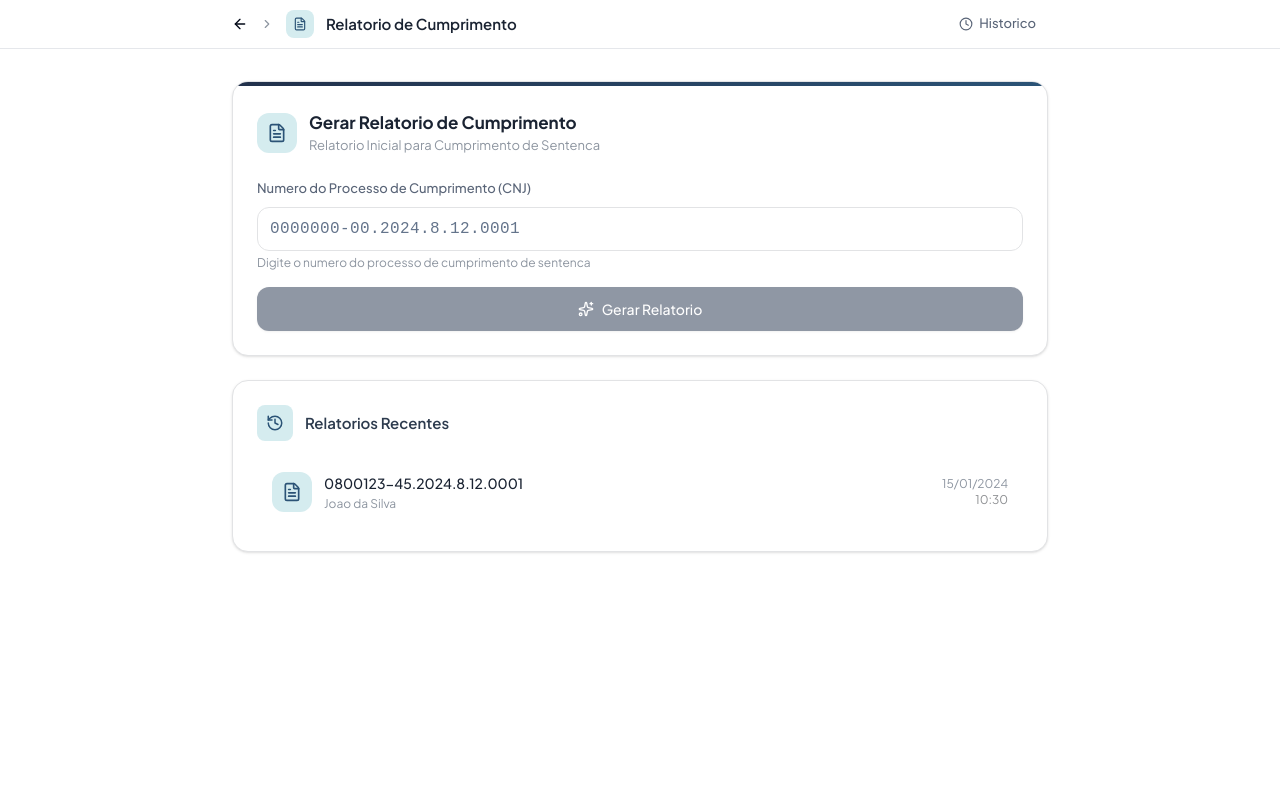
Test case: RelatorioCumprimentoPage › deve mostrar historico quando dados sao carregados
Clica no botao de historico para abrir o drawer - use text "Historico" without accent
Click the button "Historico": point(998, 24) [947,8,1048,40]
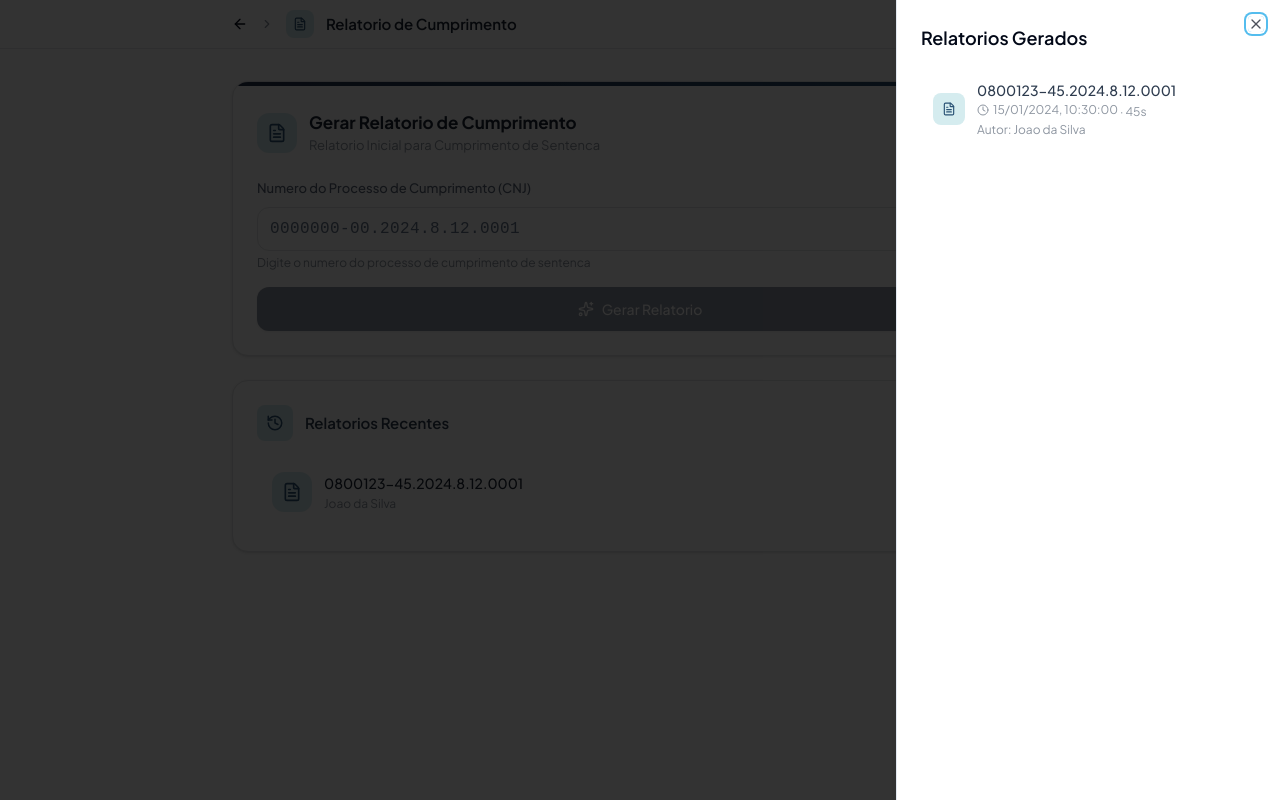
Expected: the text "0800123-45.2024.8.12.0001" below "Relatorios Recentes" is shown, [324,474,523,492]
Result: the heading "Relatorios Gerados" is shown at [921,26,1087,49]
